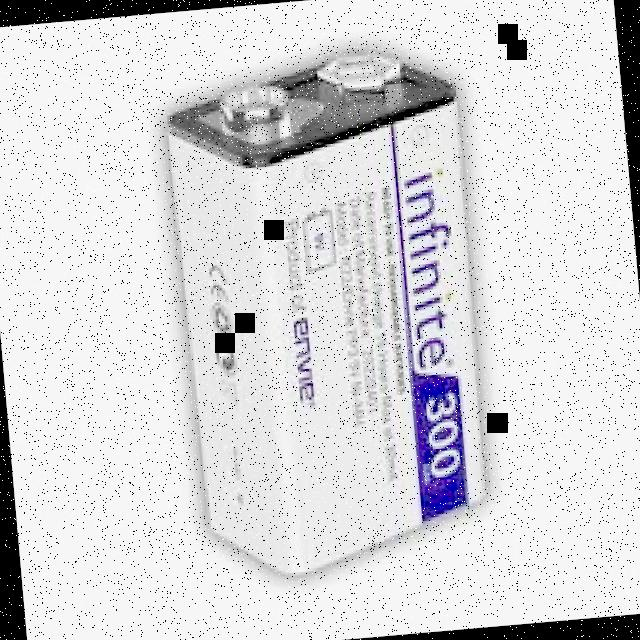battery: (167, 51, 485, 577)
